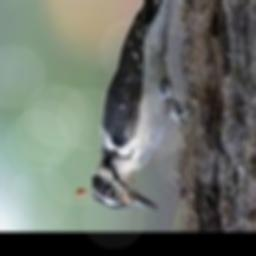Woodpecker: (75, 0, 189, 211)
